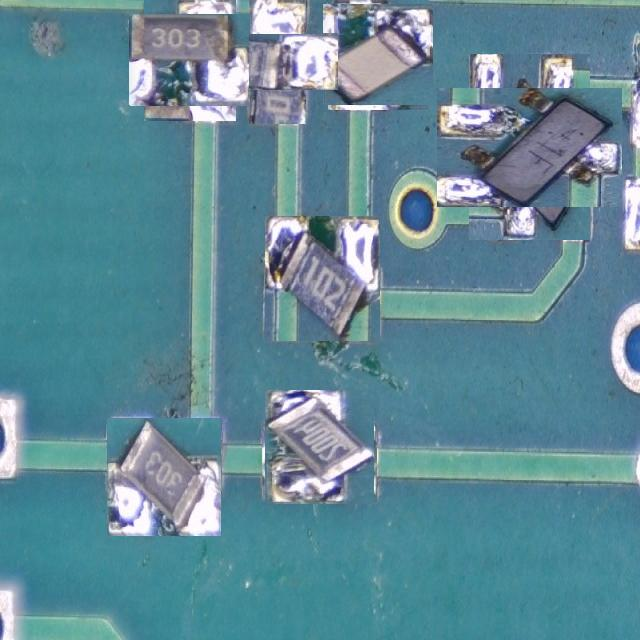Incorrect_installation: (437, 88, 622, 207), (265, 217, 380, 339), (108, 419, 220, 535), (265, 390, 373, 503), (129, 15, 249, 105), (324, 5, 432, 104), (216, 34, 338, 90)
